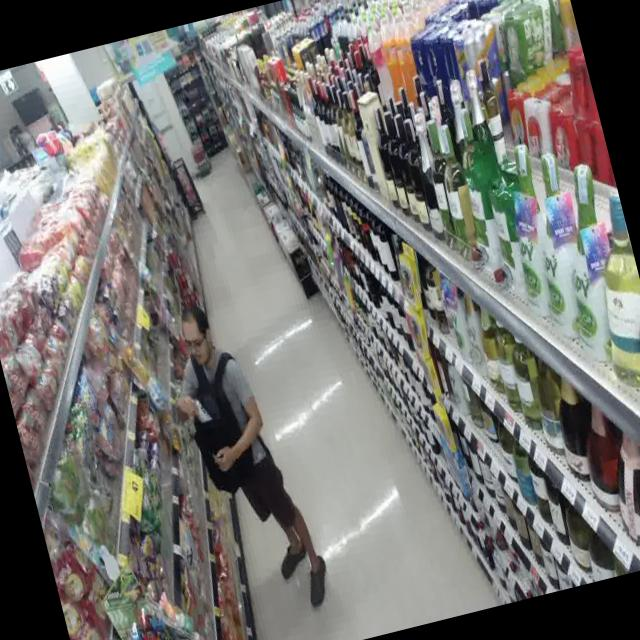shoplifting: (134, 270, 347, 640)
